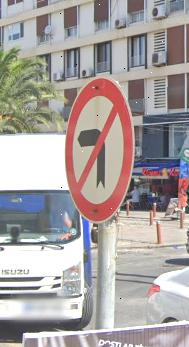rightturnsareforbidden: (69, 83, 132, 217)
